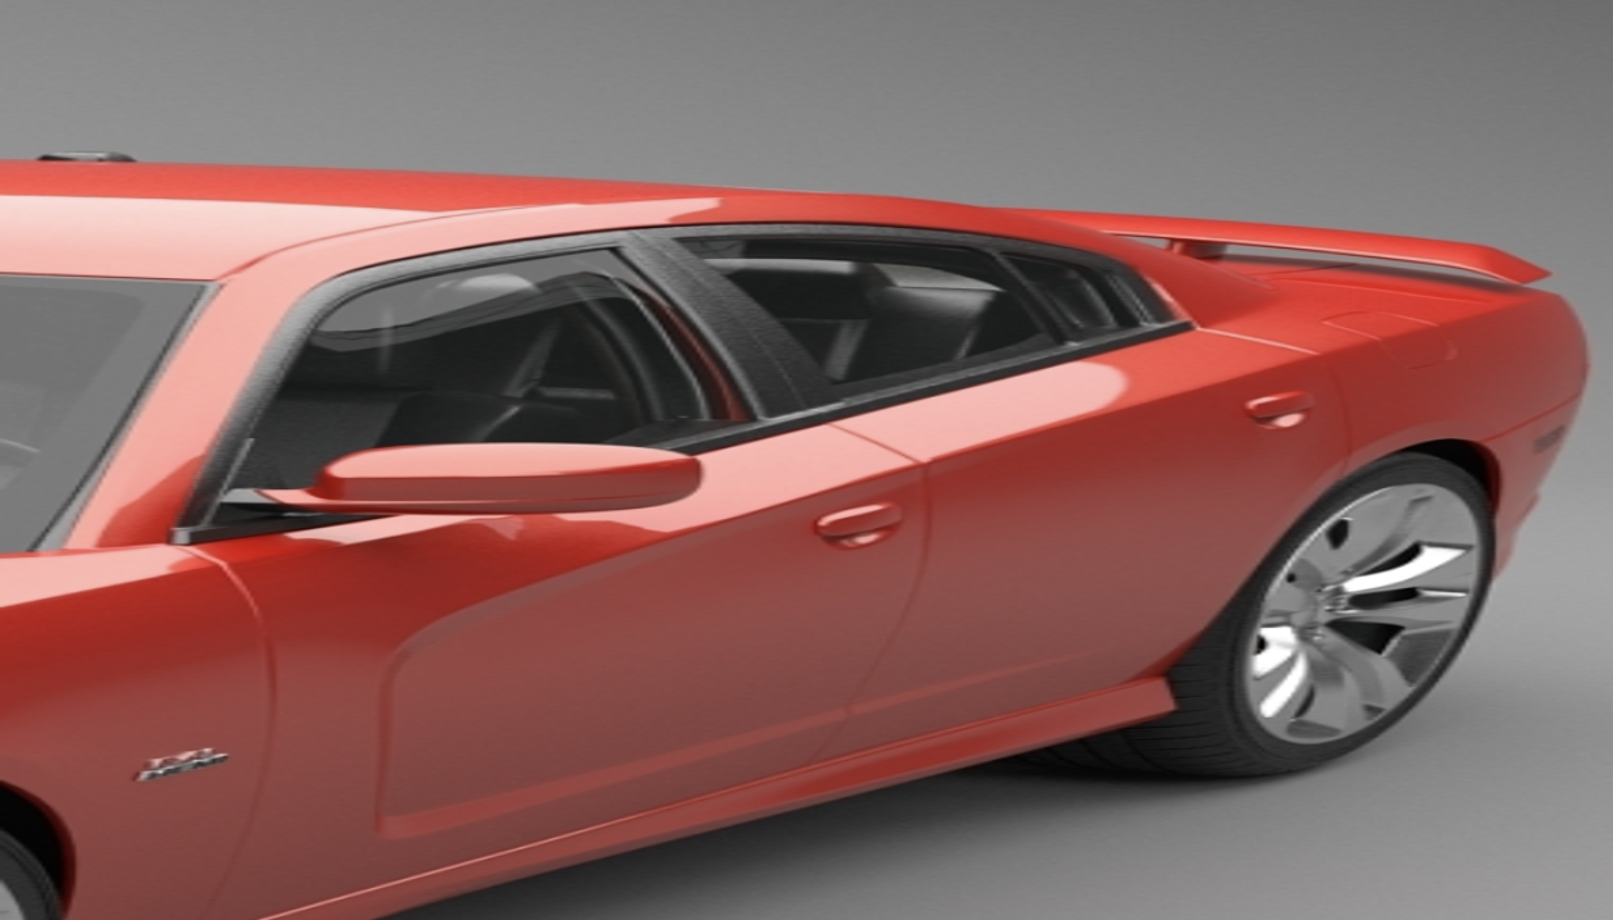hatch: (1325, 298, 1467, 374)
